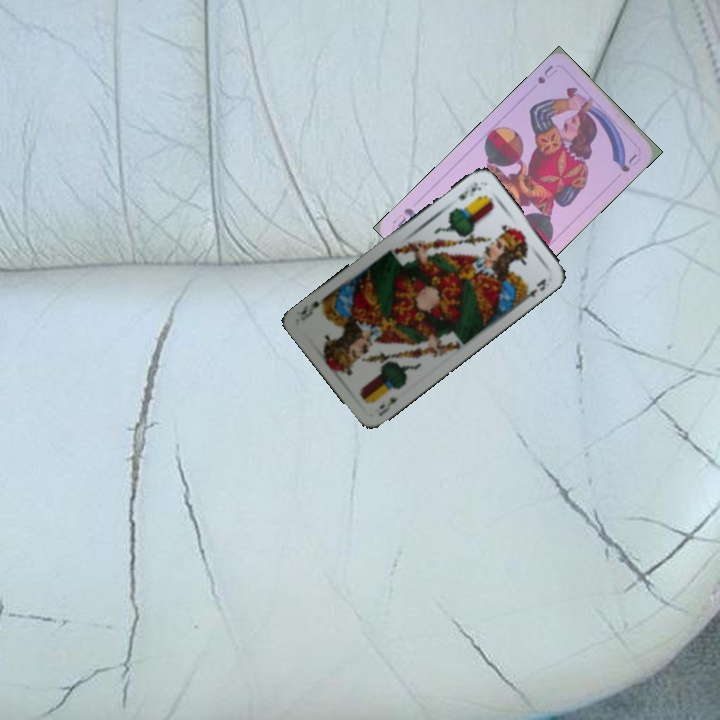EK: (454, 178, 483, 203), (374, 393, 400, 419)
SU: (534, 61, 559, 87)
